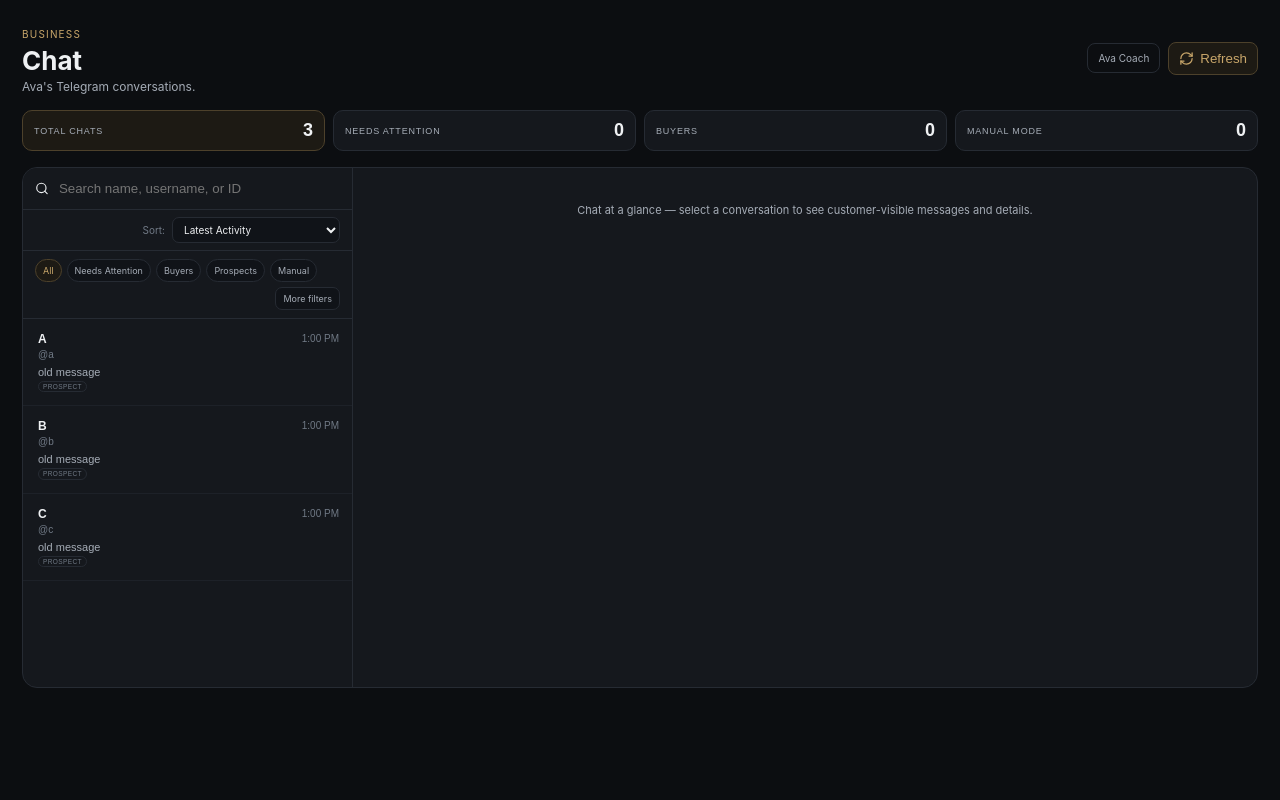
Test: Business Chat live refresh › keeps the newest rapid selection when older requests finish out of order
The image size is (1280, 800).
Expected: the text "A" is shown, [38,332,47,346]
Click the button "A @a old message PROSPECT 1:00 PM" at [69, 372], box [23,319,352,406]
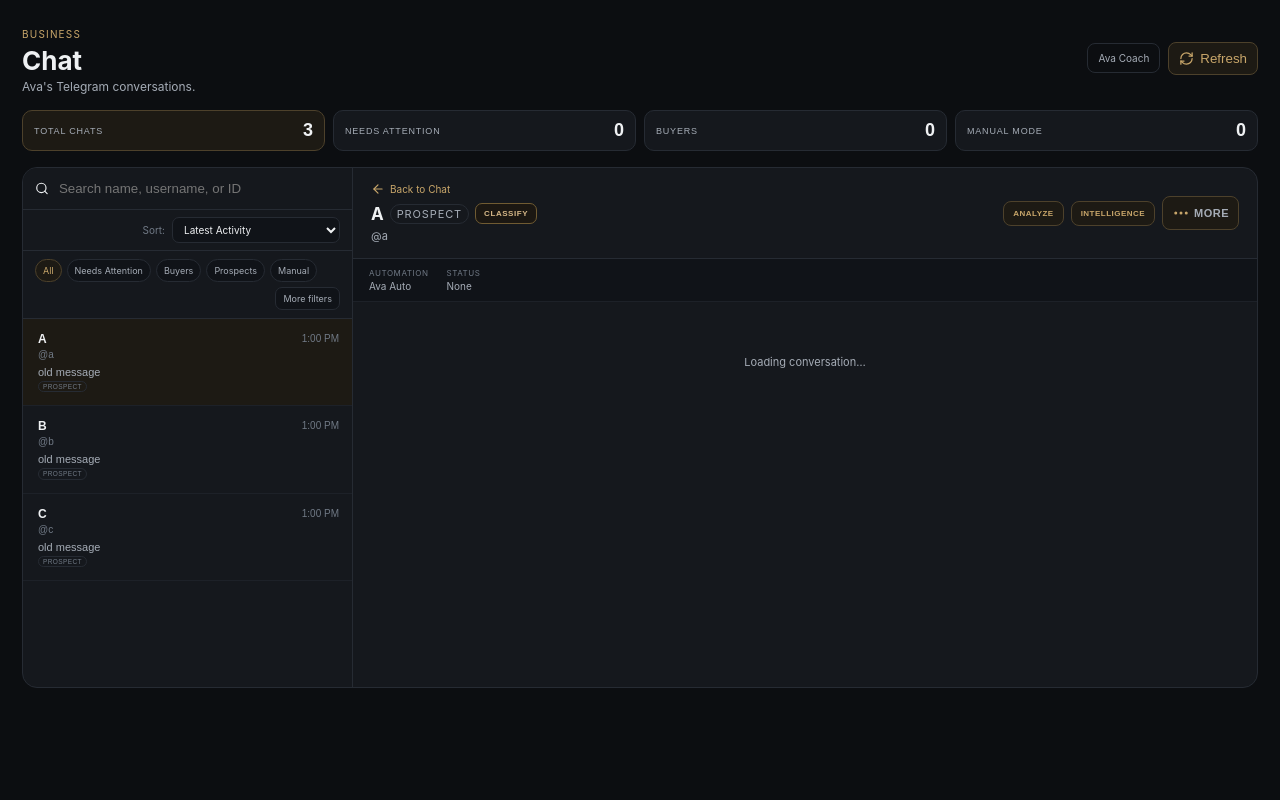
Click the button "B @b old message PROSPECT 1:00 PM" at [69, 459], box [23,406,352,494]
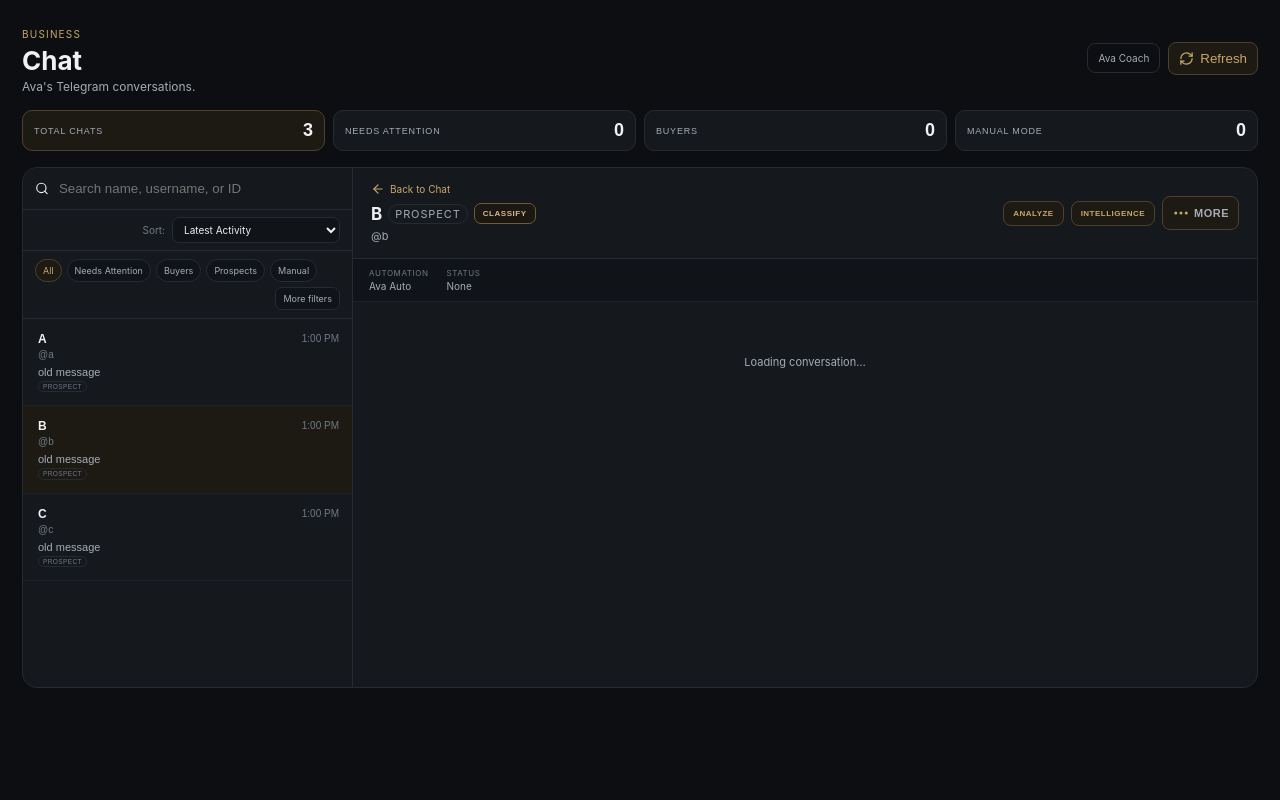
Click the button "C @c old message PROSPECT 1:00 PM" at [69, 547], box [23,494,352,581]
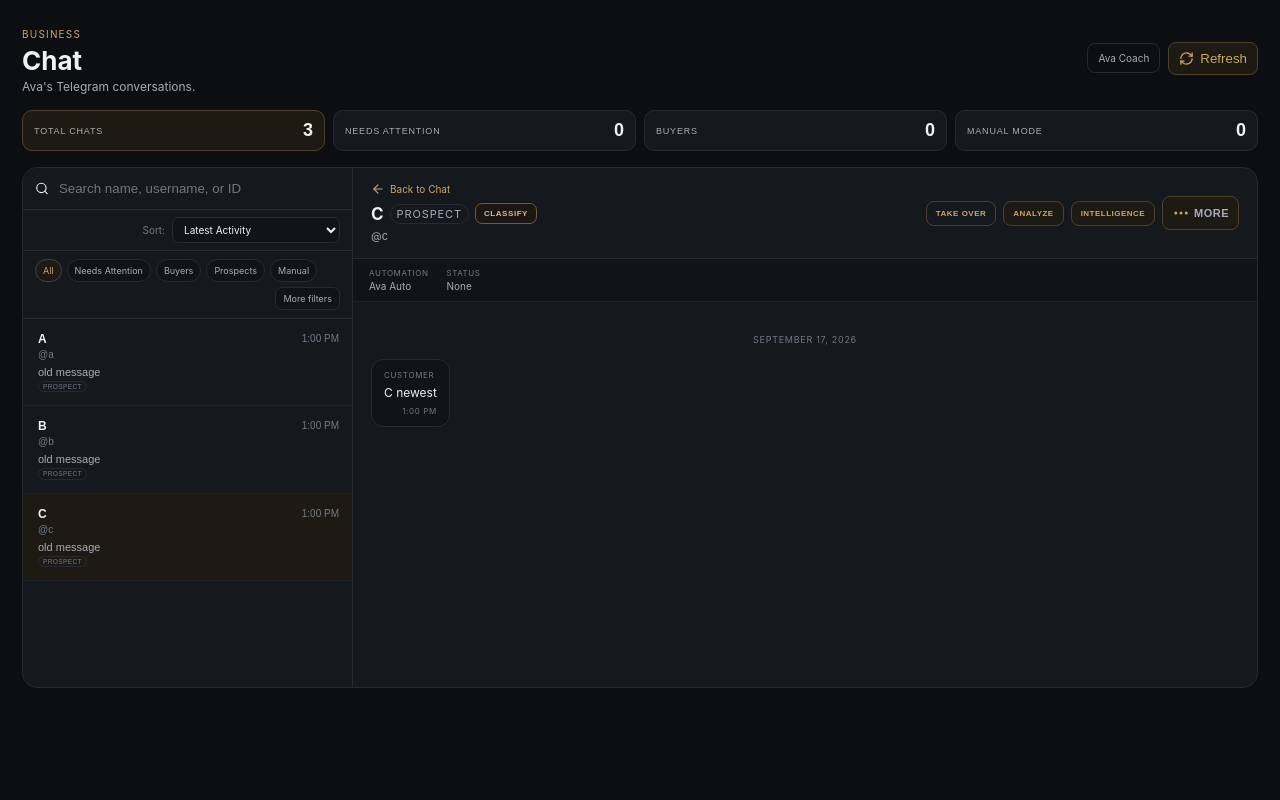
Now the text "C newest" is shown, box [384,384,437,402]
